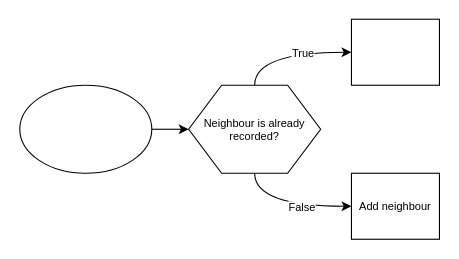
The diagram is 459 pixels wide and 259 high, and some of its shapes have lost their labels. Here are the shapes that lost their labels. From the top down, the centre of each, then its label:
(x=394, y=51): Refresh expiry for neighbour
(x=85, y=128): HELLO Arrives
